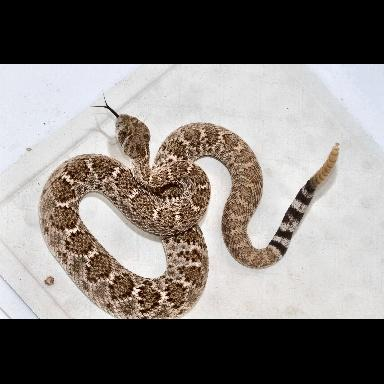snake: (42, 114, 341, 319)
